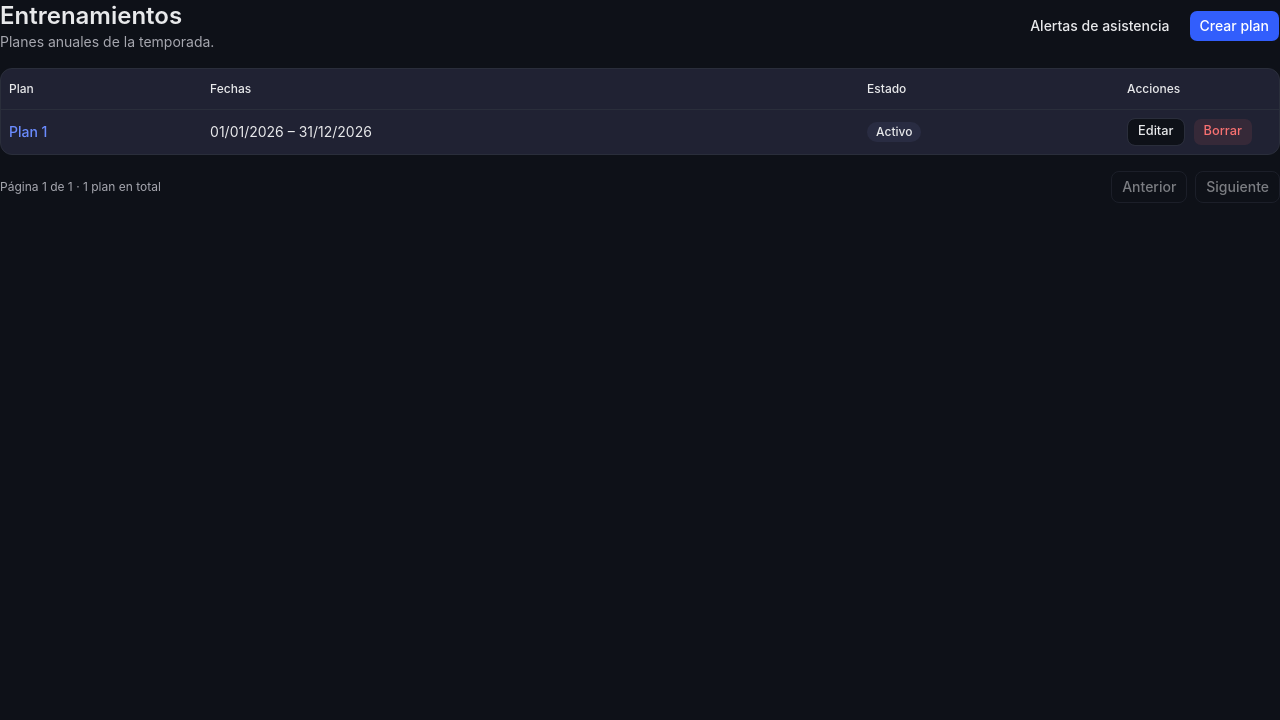
Test: PlansListPage › ADMIN ve crear/editar/borrar y el formulario abre en modo alta
Click the button with test id "plan-create".
click(1234, 26)  # box [1189,10,1279,42]
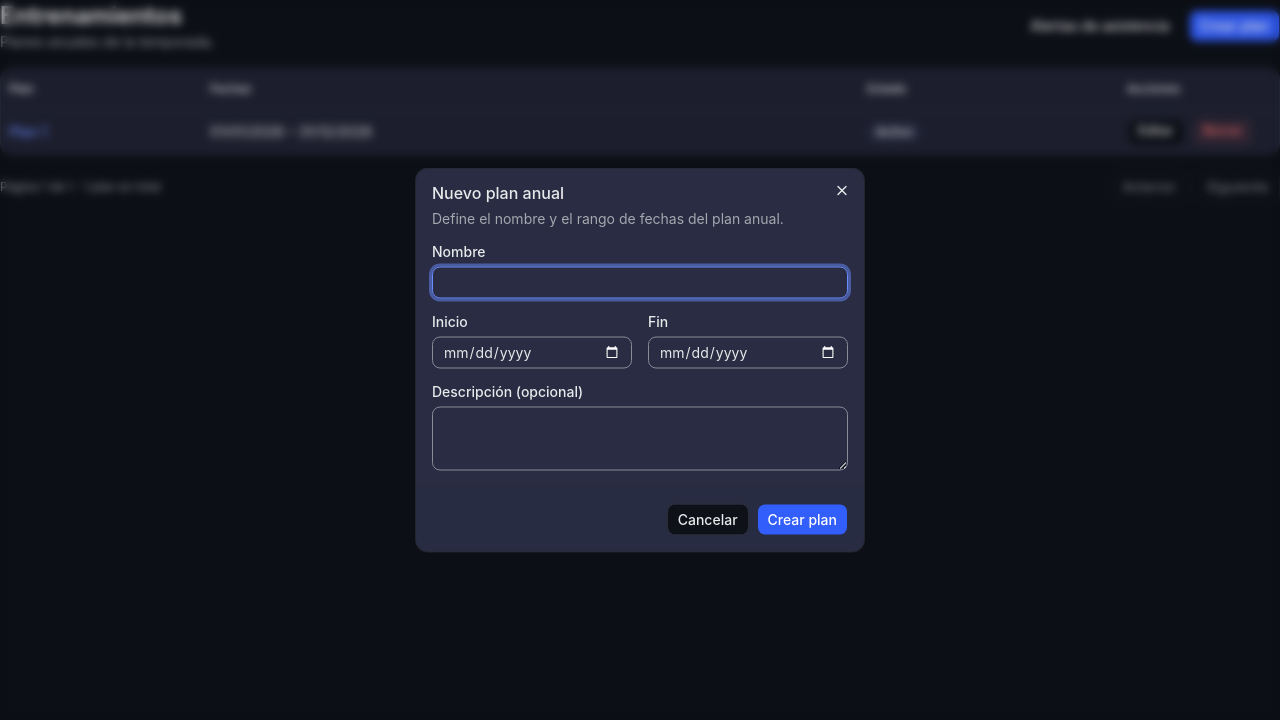
Result: the field with test id "plan-form-name" is empty at [432,266,848,298]
Result: the button with test id "plan-form-submit" reads "Crear plan" at [757,504,848,536]
